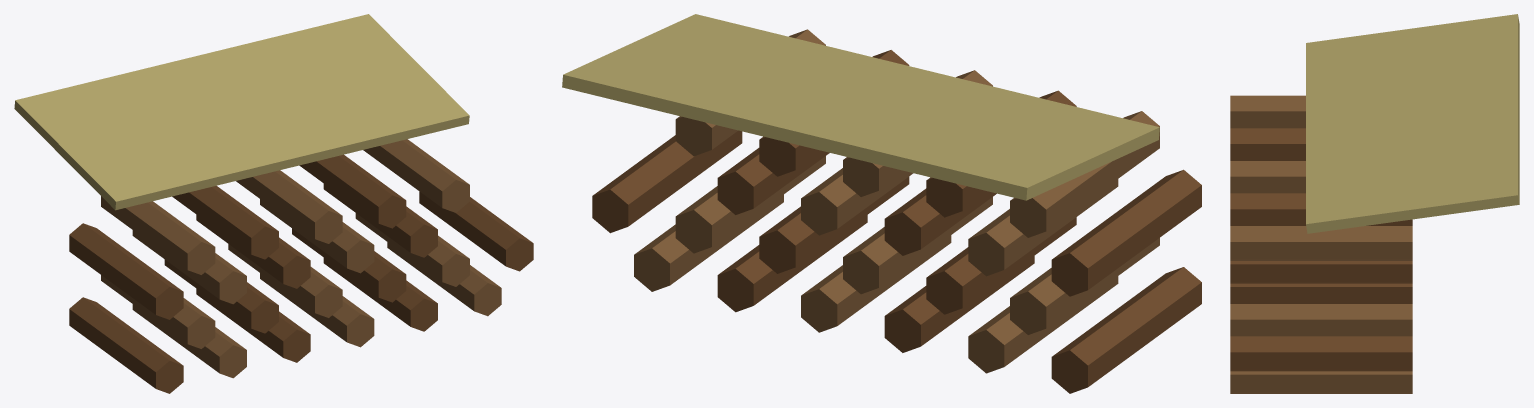
Rendered from a3h_firewood_stack.glb.
3 renders of one model, left to right at view 1: azimuth 30°, elevation 25°; view 2: azimuth 150°, elevation 25°; view 3: azimuth 270°, elevation 25°, orthographic. The views are drawn at different scales.
Parts seen in each view (by area): view 1: a3h_firewood_stack; view 2: a3h_firewood_stack; view 3: a3h_firewood_stack.
Part boxes in pixels (left/top/right/bottom): a3h_firewood_stack: left=14, top=14, right=533, bottom=393; a3h_firewood_stack: left=562, top=14, right=1201, bottom=393; a3h_firewood_stack: left=1230, top=14, right=1519, bottom=393.
Size of the model in its own units: 2.16 by 1.07 by 1.35.
